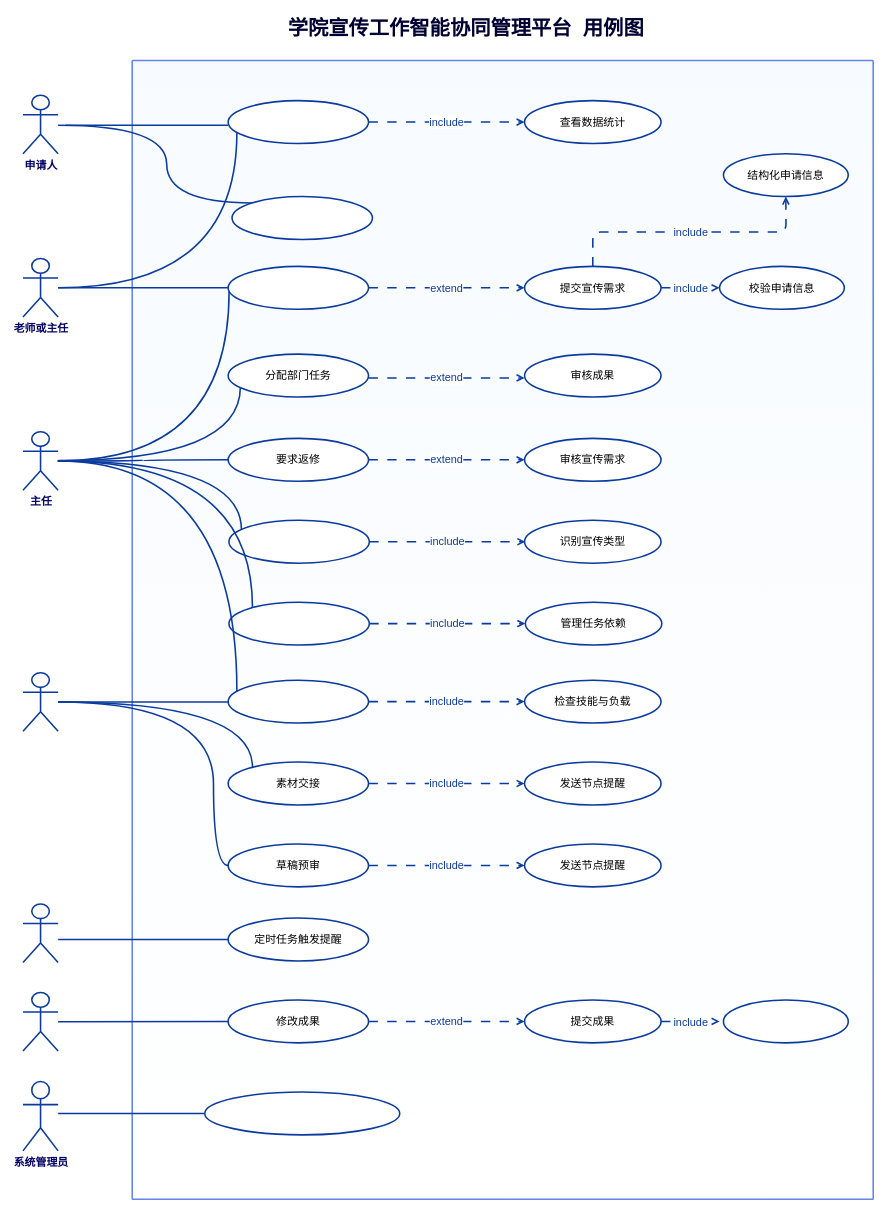
Some shapes in this 888 by 1213 pixel diagram are drawn without their labels. Each missing label, with the centre of its shape:
上传附件或链接: the point at 785,1021
修改申请或补充材料: the point at 298,287
安排干事: the point at 298,701
干事: the point at 40,1021
归档宣传素材: the point at 298,121
拆分子任务: the point at 299,623
确认成果: the point at 302,217
管理用户 部门 任务类型 提醒规则: the point at 302,1113
系统定时器: the point at 40,933
部长: the point at 40,702
驳回或要求补充: the point at 299,541
